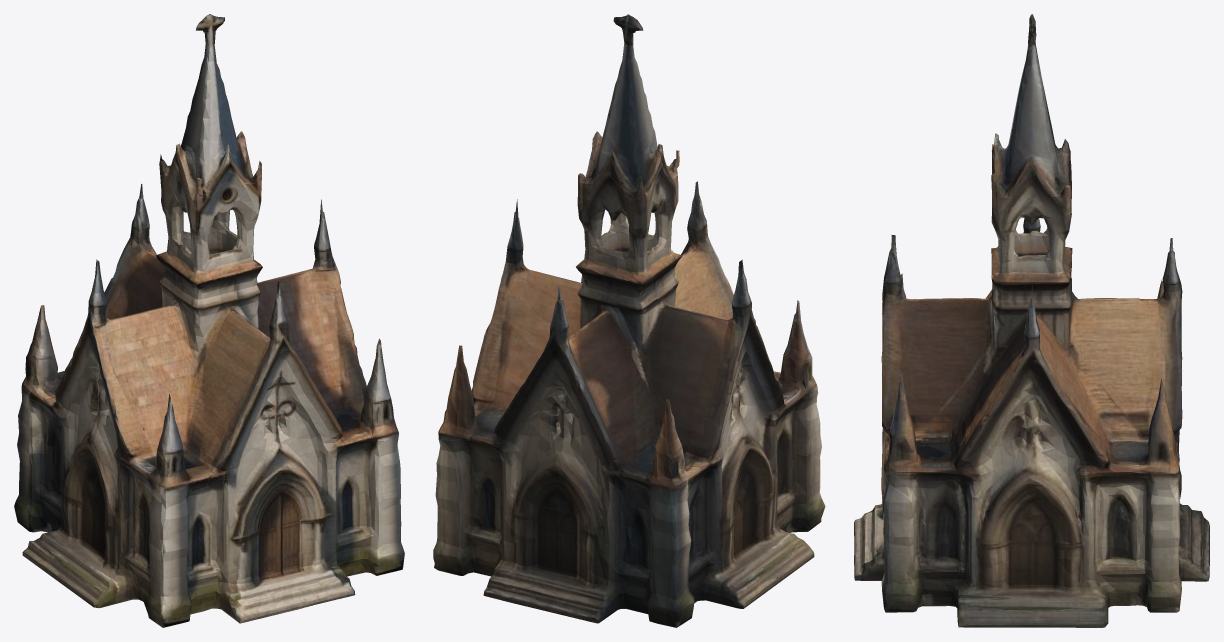
File: church_spire_tan_lod0.glb
3 views of the same model, side by side, from view 1: azimuth 30°, elevation 25°; view 2: azimuth 150°, elevation 25°; view 3: azimuth 270°, elevation 25° (orthographic).
Parts seen in each view (by area): view 1: church_spire_tan_lod0; view 2: church_spire_tan_lod0; view 3: church_spire_tan_lod0.
Part boxes in pixels (box(x1,y1,x2,y2)): church_spire_tan_lod0: box(14, 14, 404, 627); church_spire_tan_lod0: box(433, 14, 825, 627); church_spire_tan_lod0: box(854, 14, 1209, 627).
Size of the model in its own units: 8.3 by 13.95 by 8.33.
1 material, 1 textured.
